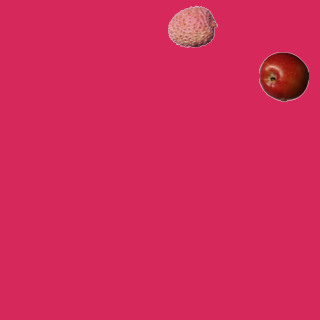Apple Braeburn: (258, 51, 308, 101)
Lychee: (167, 1, 217, 51)
